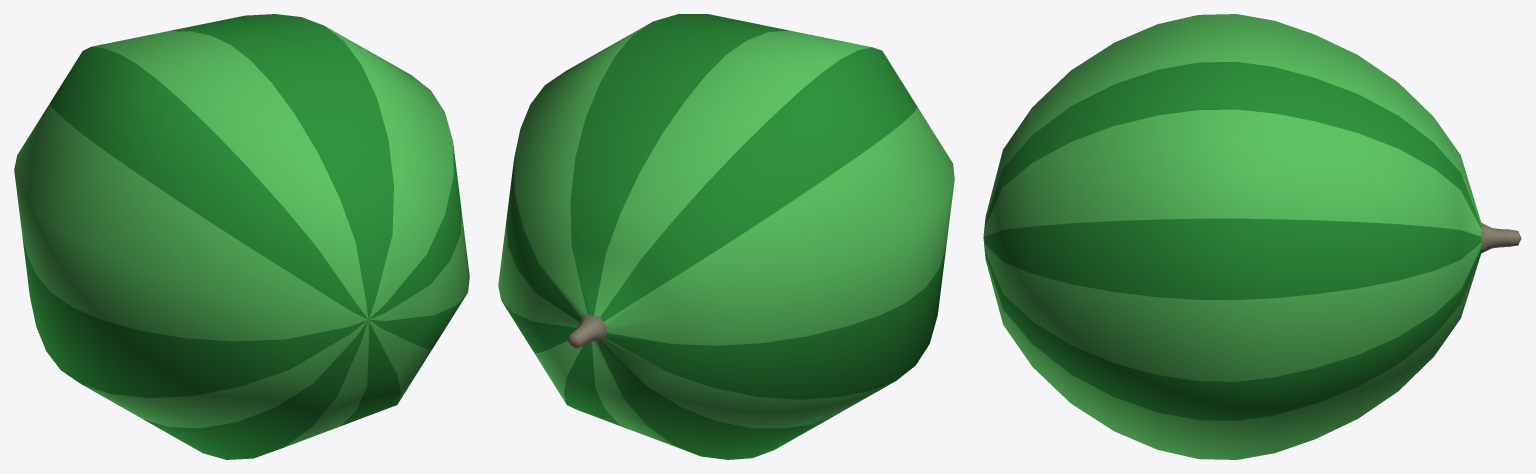
Rendered from Watermelon_One.fbx.
The picture shows the model from 3 angles, left to right: view 1: azimuth 30°, elevation 25°; view 2: azimuth 150°, elevation 25°; view 3: azimuth 270°, elevation 25°; orthographic projection. The views are drawn at different scales.
Parts seen in each view (by area): view 1: Watermelon_One; view 2: Watermelon_One; view 3: Watermelon_One.
Part boxes in pixels (bbox=[...]): Watermelon_One: bbox=[14, 14, 469, 459]; Watermelon_One: bbox=[498, 14, 954, 459]; Watermelon_One: bbox=[983, 14, 1521, 459].
Bounding box in the file's own units: 85.94 × 81.67 × 107.
